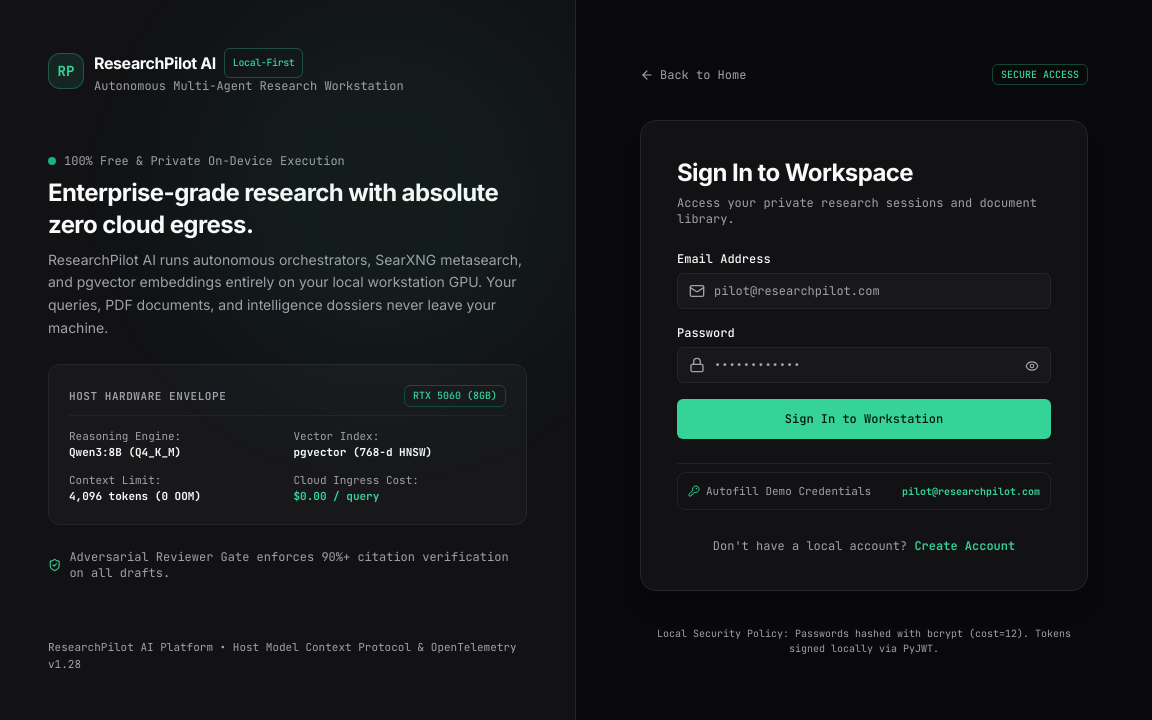
Test case: LoginPage › populates fields when Autofill Demo Credentials is clicked
Click the button "Autofill Demo Credentials pilot@researchpilot.com".
click(864, 491)  # box [677, 472, 1051, 510]
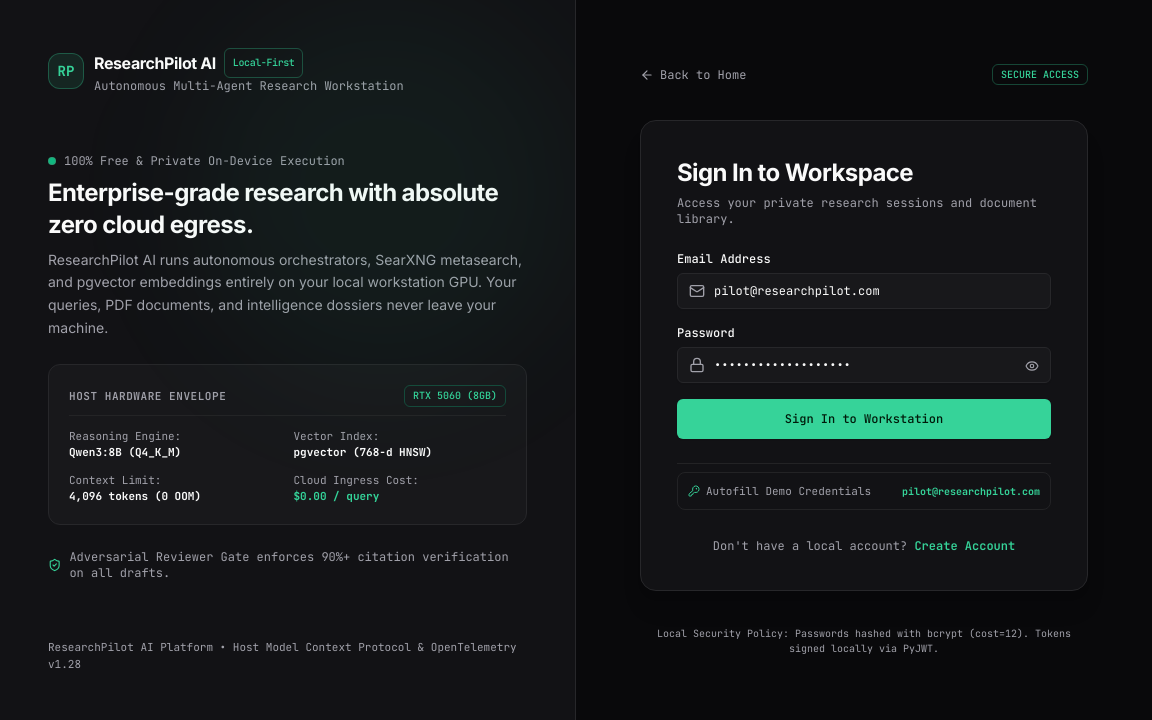
Result: the field with placeholder "pilot@researchpilot.com" holds "pilot@researchpilot.com" at [677, 273, 1051, 309]
Result: the password field with placeholder "••••••••••••" holds "PilotSecurePass123!" at [677, 347, 1051, 383]
